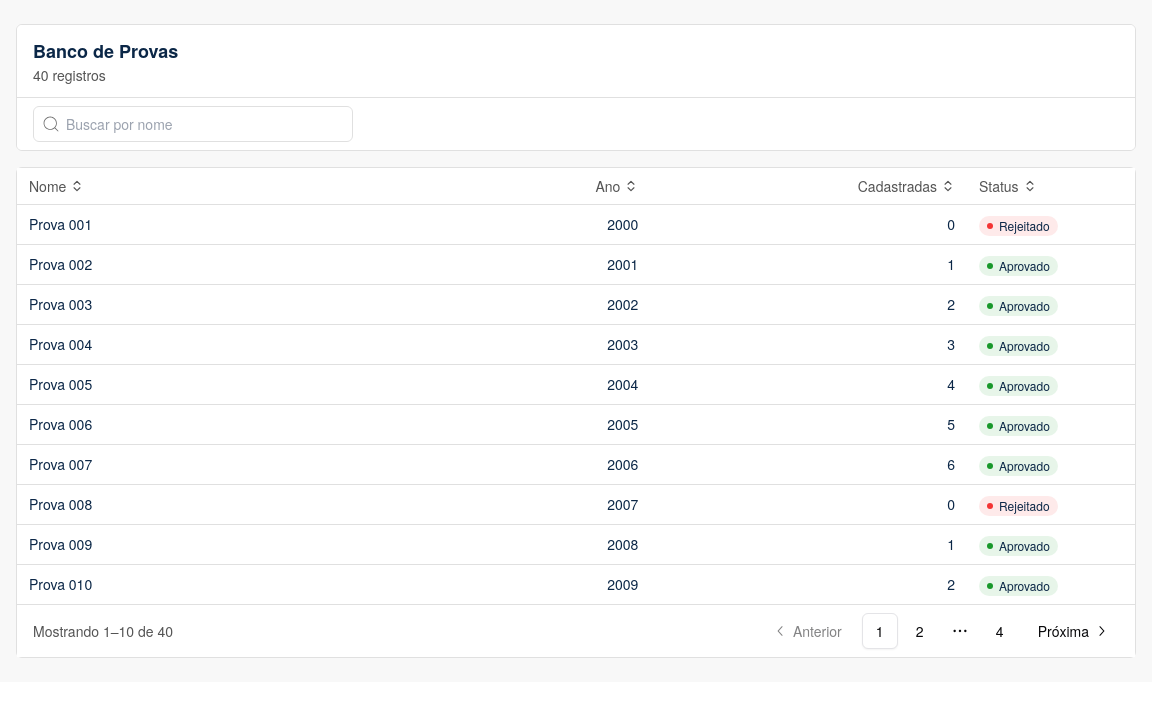
Test: DashListTemplate — trocar filtro volta para a página 1 › ⚠️ digitar na busca reposiciona na página 1 no mesmo instante em que a tela filtra
Click the link "4" at point(1000, 631), box [996,621,1004,641]
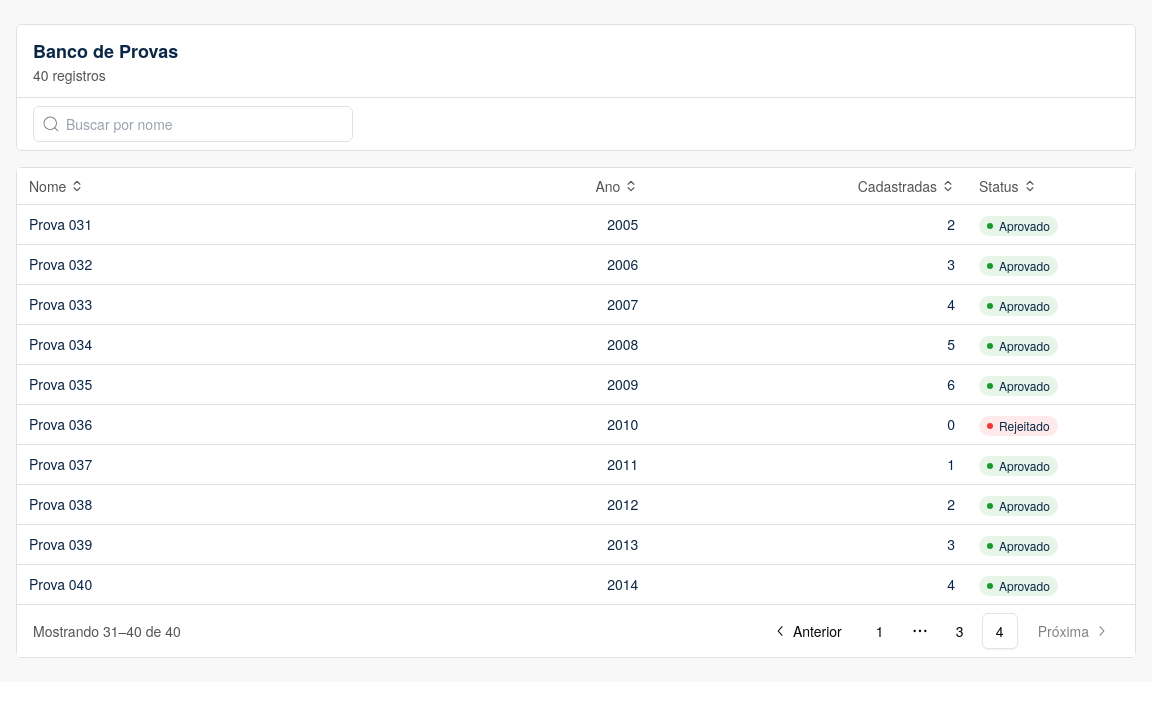
expect the text "Mostrando 31–40 de 40" is shown: met, box [33,621,181,641]
Type "pro" into the search field at point(193, 124), box [33,106,353,142]
Wait 260 ms
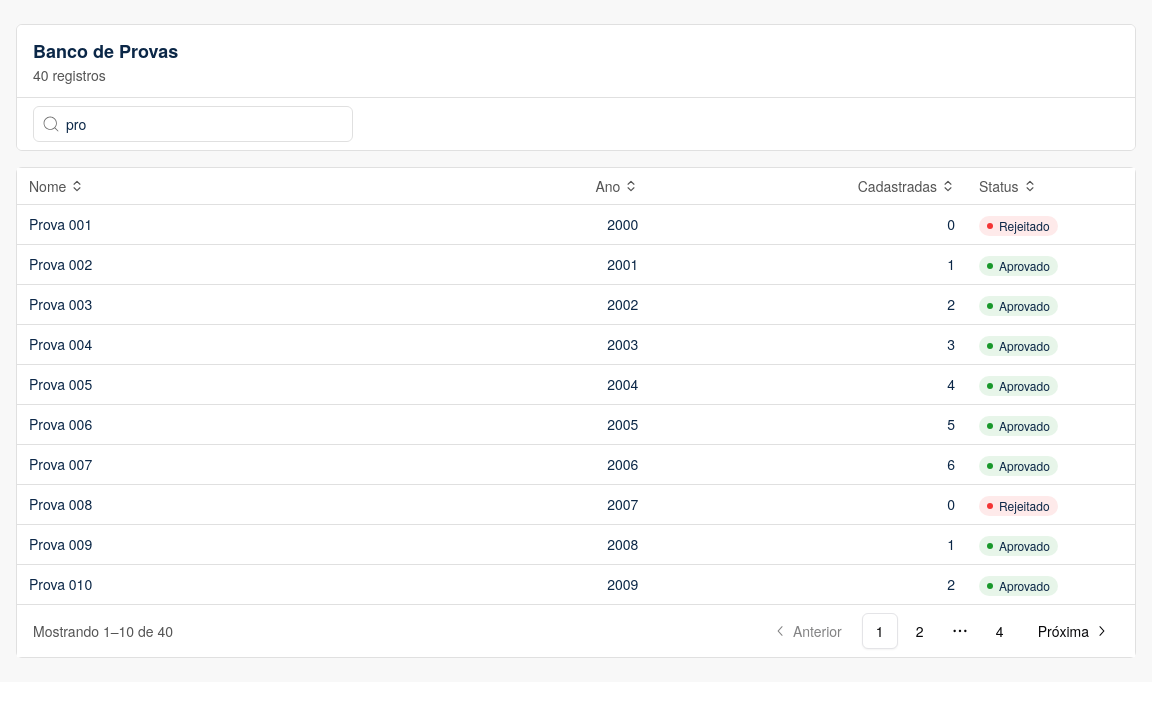
expect the text "Mostrando 1–10 de 40" is shown: met, box [33,621,173,641]
